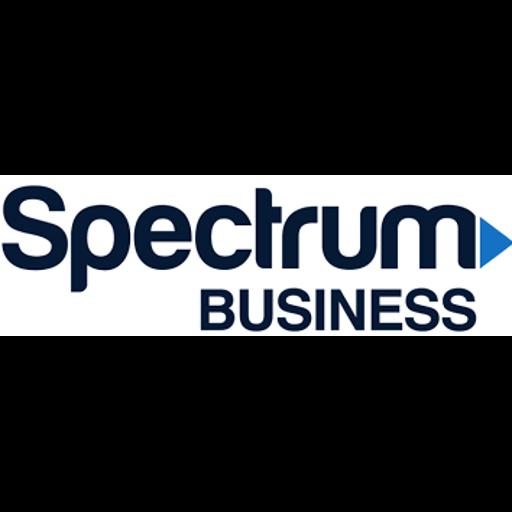Spectrum: (0, 175, 512, 336)
